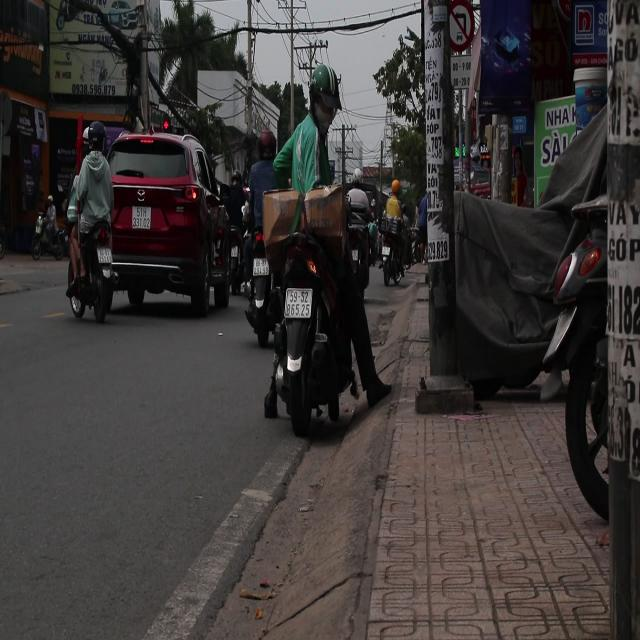car: (102, 131, 233, 318)
motorbike: (261, 222, 361, 437), (65, 198, 118, 340), (247, 224, 284, 355), (222, 208, 247, 310), (31, 205, 66, 272), (348, 224, 374, 309), (380, 222, 410, 288)
